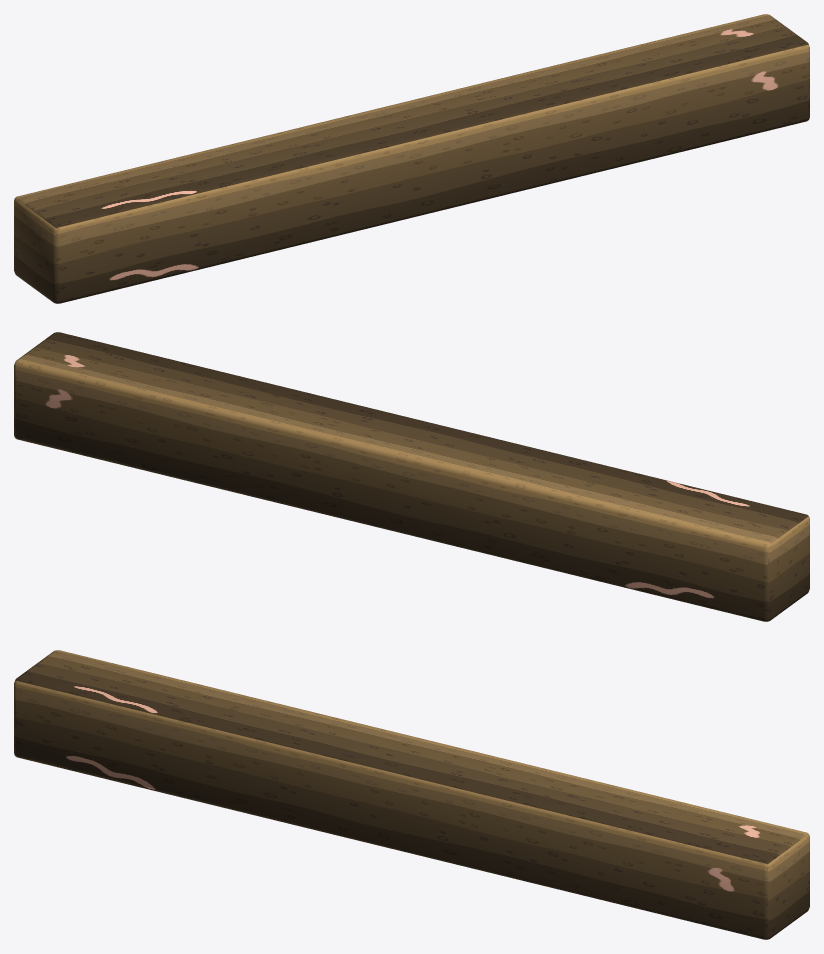
Rendered from Dirt.fbx.
3 views of the same model, one above another, from view 1: azimuth 30°, elevation 25°; view 2: azimuth 150°, elevation 25°; view 3: azimuth 330°, elevation 25° (orthographic).
Parts seen in each view (by area): view 1: Cube.001; view 2: Cube.001; view 3: Cube.001.
Part boxes in pixels (bbox=[...]): Cube.001: bbox=[14, 14, 809, 303]; Cube.001: bbox=[14, 332, 809, 621]; Cube.001: bbox=[14, 650, 809, 939].
Size of the model in its own units: 2000 by 200 by 200.
Materials: 1 (1 with a texture image).
